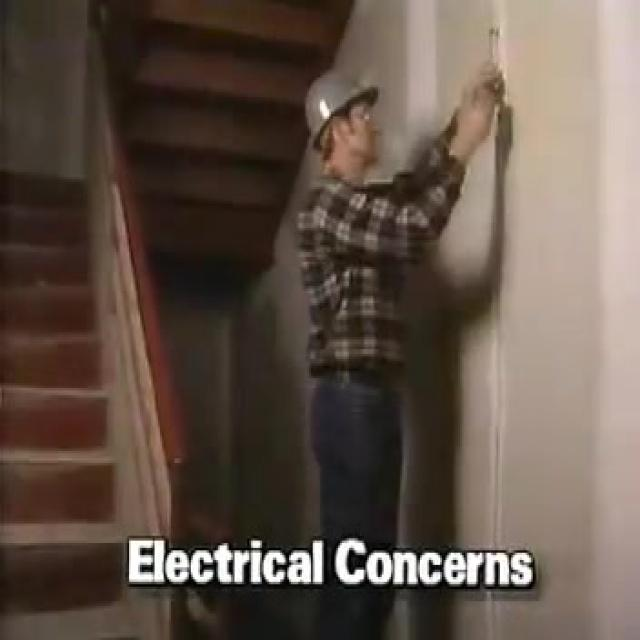helmet: (298, 84, 380, 193)
